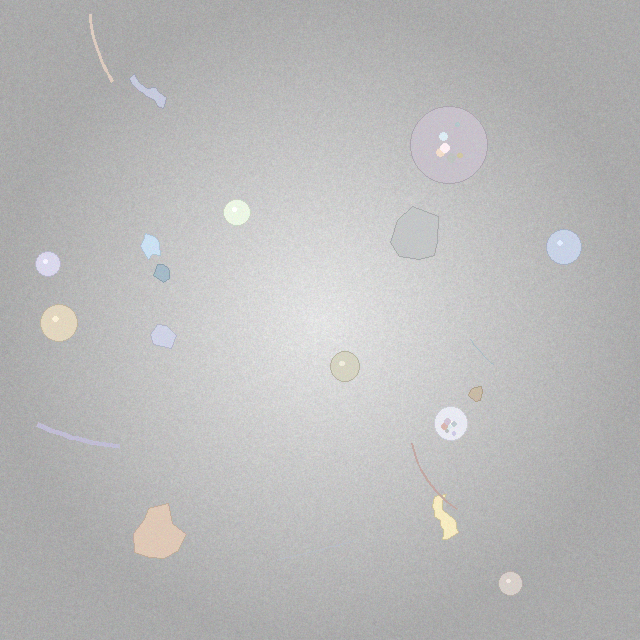fiber: (409, 442, 458, 511), (33, 420, 124, 452), (87, 11, 116, 85), (275, 538, 358, 563), (468, 338, 495, 367)
film: (129, 73, 166, 108), (433, 494, 458, 540)
foam: (411, 107, 487, 183), (434, 406, 468, 440)
fragment: (134, 503, 187, 558), (390, 207, 438, 260), (151, 325, 176, 348), (140, 233, 161, 259), (153, 265, 170, 282), (469, 387, 483, 402)
pellet: (41, 304, 78, 341), (546, 229, 581, 264), (330, 352, 360, 381), (224, 199, 250, 226), (36, 251, 61, 276), (499, 571, 523, 596)
